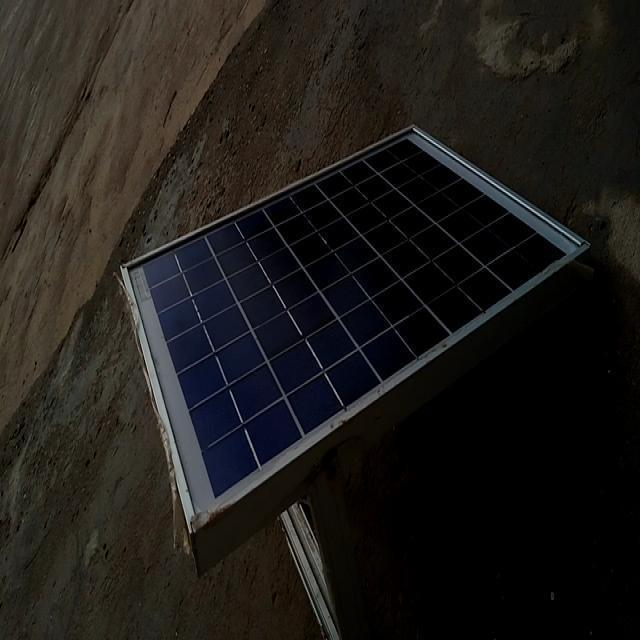Normal Solar Panel: (123, 127, 589, 573)
